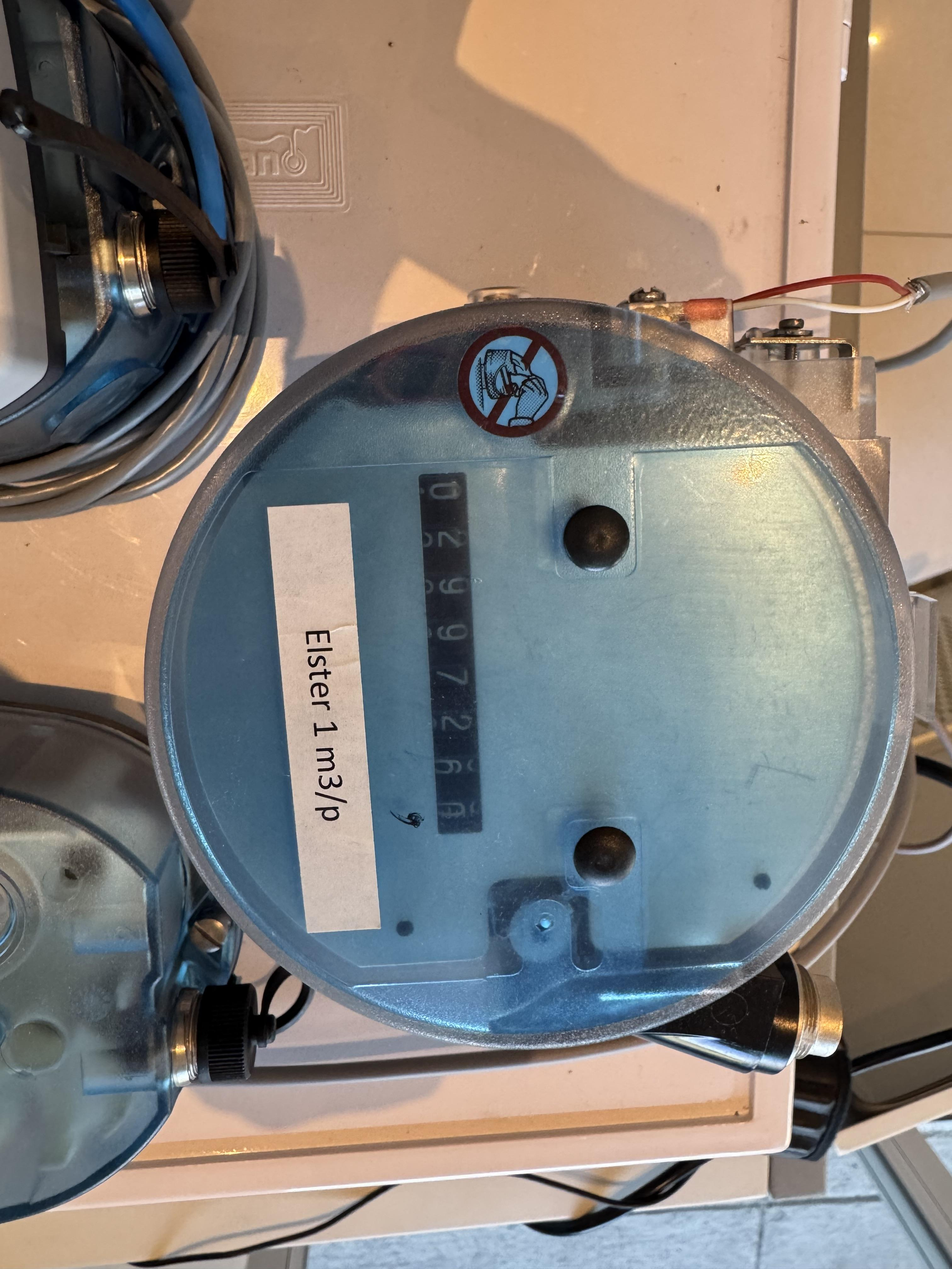analog_dial: (388, 467, 488, 841)
